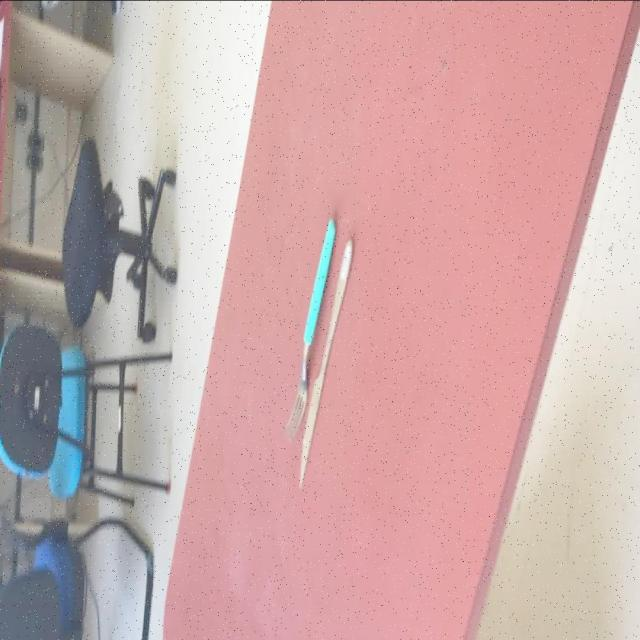Fork: (284, 216, 336, 436)
Knife: (298, 234, 354, 487), (283, 215, 337, 438)
